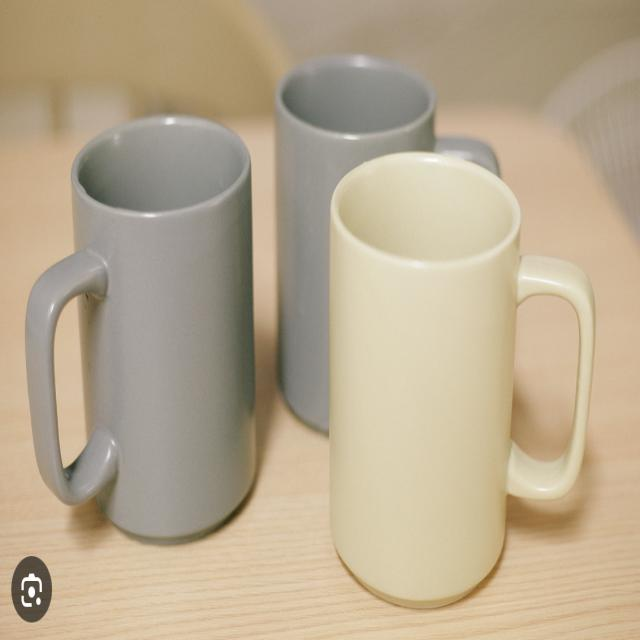recyclable: (324, 138, 605, 614), (21, 102, 285, 550)
